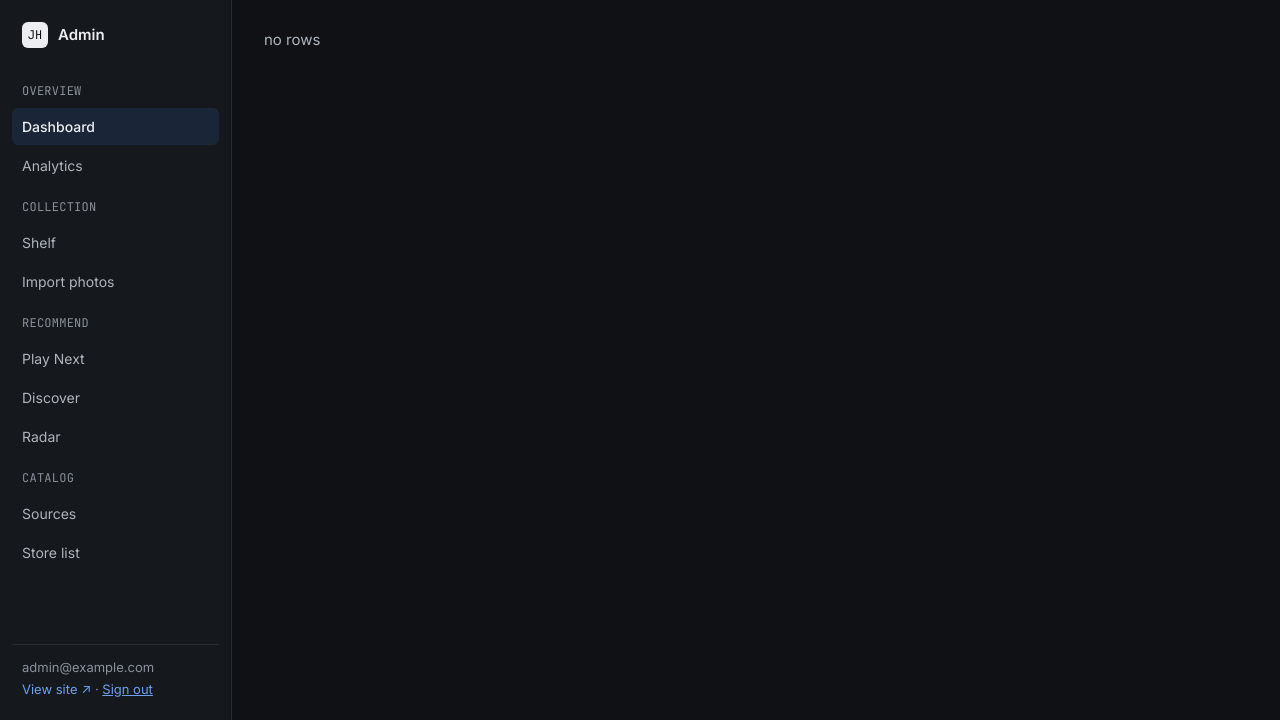
Scenario: AdminLayout session states › stays signed in when sign-out fails, rather than claiming success
What coordinates should you click on to do the following:
click the button "Sign out"
I would click on:
 (128, 689)
Its box is left=102, top=679, right=153, bottom=700.
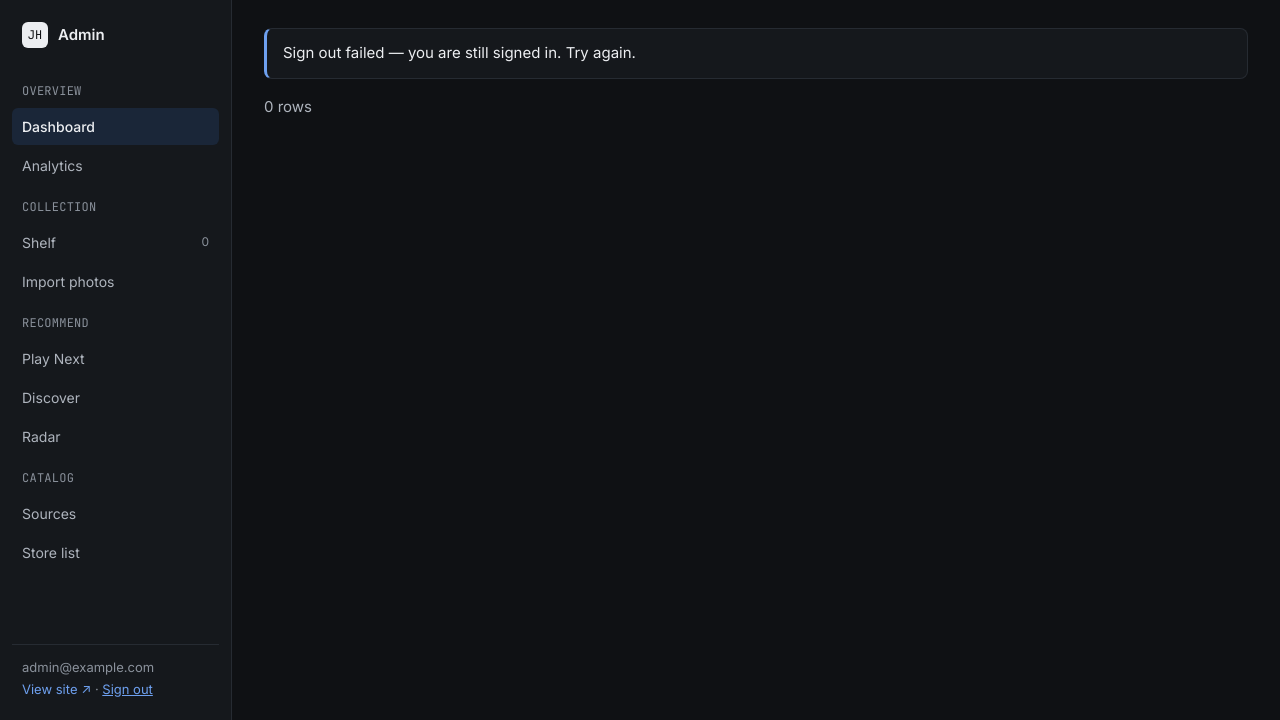
Expected: the text "0 rows" is shown, left=264, top=97, right=312, bottom=116
Expected: the message shows "Sign out failed", left=283, top=43, right=636, bottom=62
